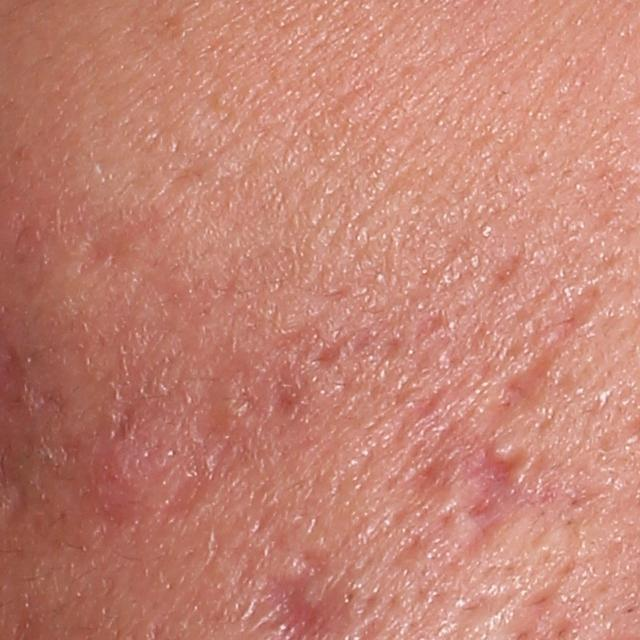atrophic_scar: (1, 378, 123, 567), (166, 336, 270, 516), (492, 284, 600, 417), (394, 429, 546, 516), (78, 223, 137, 274), (272, 367, 310, 421), (492, 240, 523, 294), (314, 329, 356, 367), (391, 538, 428, 570)
